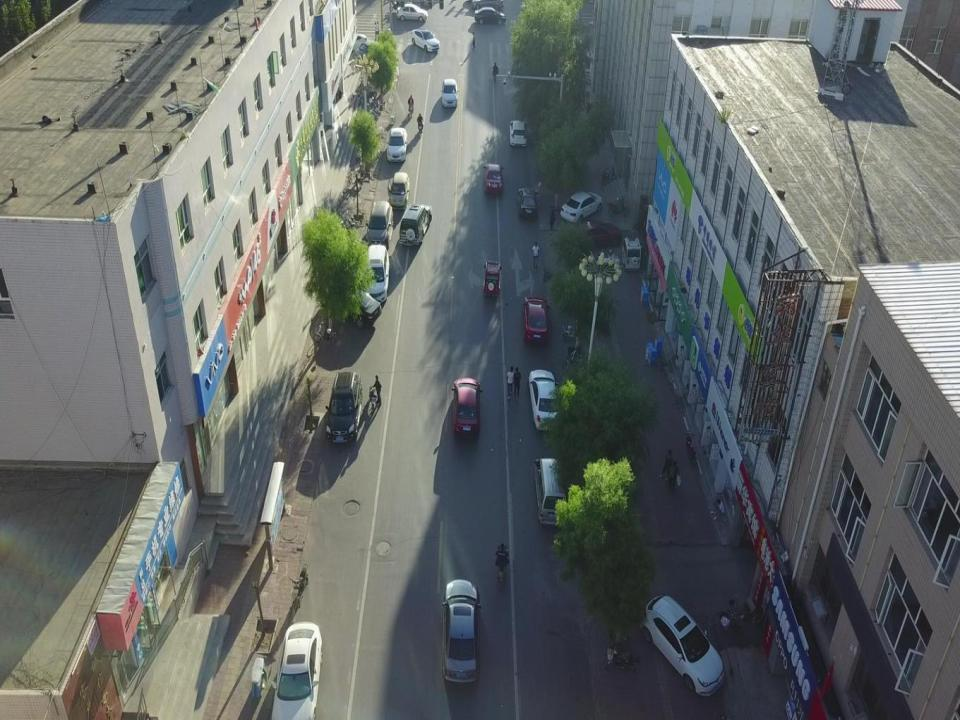car: (641, 594, 726, 698), (269, 619, 322, 718), (441, 578, 482, 684), (324, 372, 362, 441), (528, 369, 560, 432), (451, 376, 482, 440), (337, 288, 382, 328), (362, 243, 390, 303), (398, 203, 432, 246), (523, 294, 550, 346), (561, 191, 602, 224), (366, 201, 393, 244), (386, 127, 408, 162), (411, 27, 440, 53), (388, 172, 410, 205), (483, 163, 505, 194), (516, 188, 538, 218), (396, 4, 428, 22), (474, 8, 506, 25), (441, 79, 460, 107), (509, 120, 527, 148)
van: (533, 456, 566, 525)
